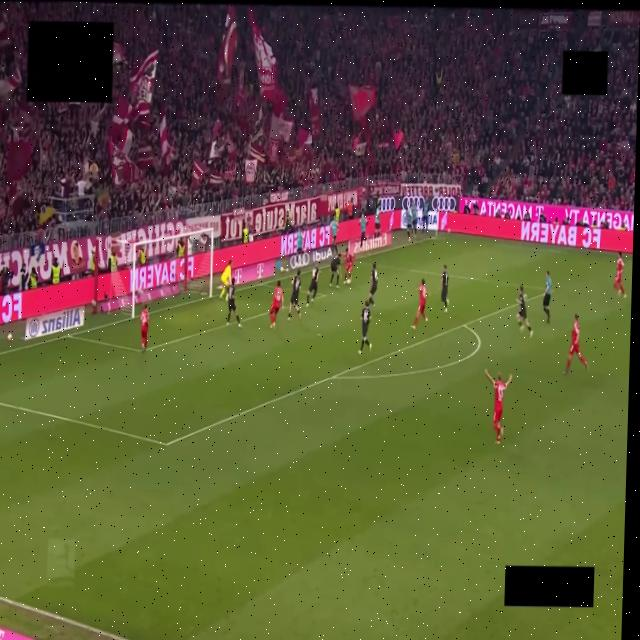ball: (347, 279, 350, 284)
player: (485, 370, 511, 444), (563, 314, 587, 375), (411, 278, 427, 329), (516, 286, 531, 336), (226, 278, 240, 327), (287, 269, 300, 321), (269, 280, 282, 328), (359, 301, 370, 354), (306, 266, 319, 307), (614, 252, 625, 297), (219, 260, 231, 298), (367, 263, 377, 306), (330, 249, 340, 288), (140, 304, 148, 352), (440, 265, 448, 312), (344, 247, 353, 284)
referee: (542, 271, 551, 322)
